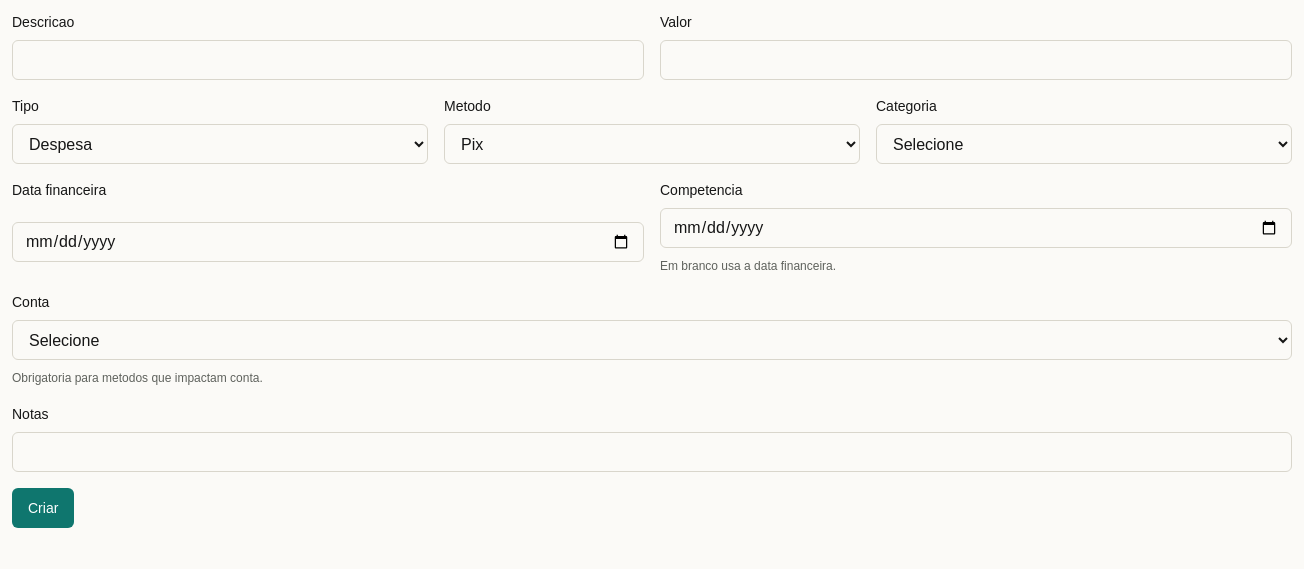
Test: TransactionForm › shows an unavailable state when credit card method has no active cards
Select "Cartao de credito" in the dropdown labelled "Metodo" at (652, 144), box x1=444 y1=124 x2=860 y2=164
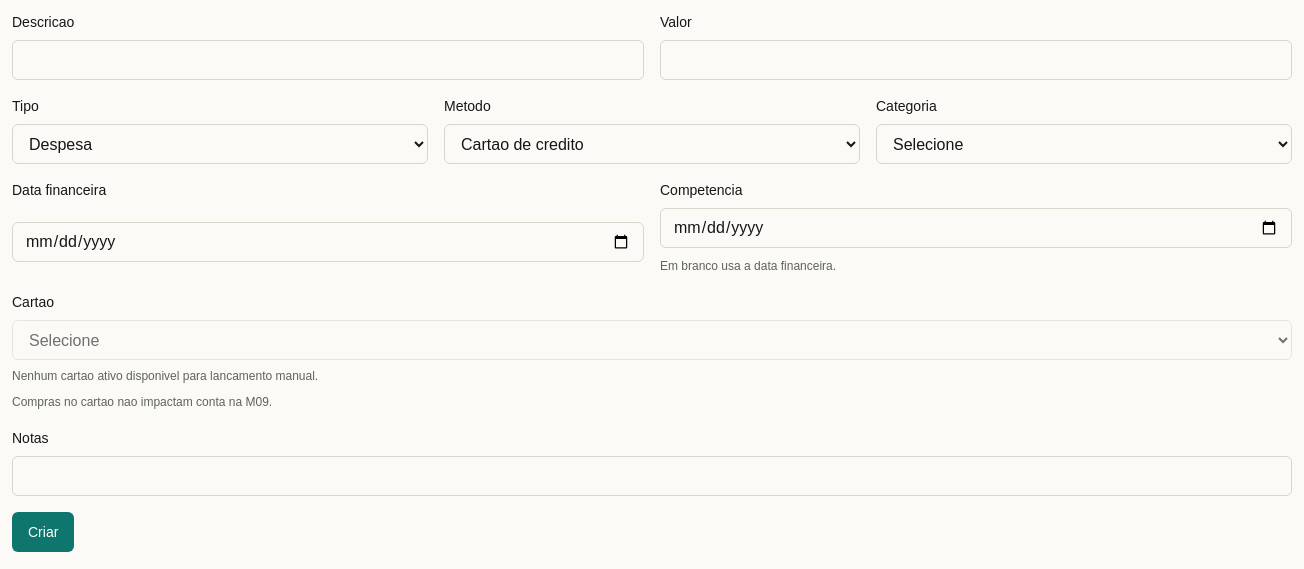
Now the message shows "Nenhum cartao ativo disponivel", box x1=12 y1=369 x2=318 y2=383
Now the dropdown labelled "Cartao" is disabled, box x1=12 y1=320 x2=1292 y2=360
